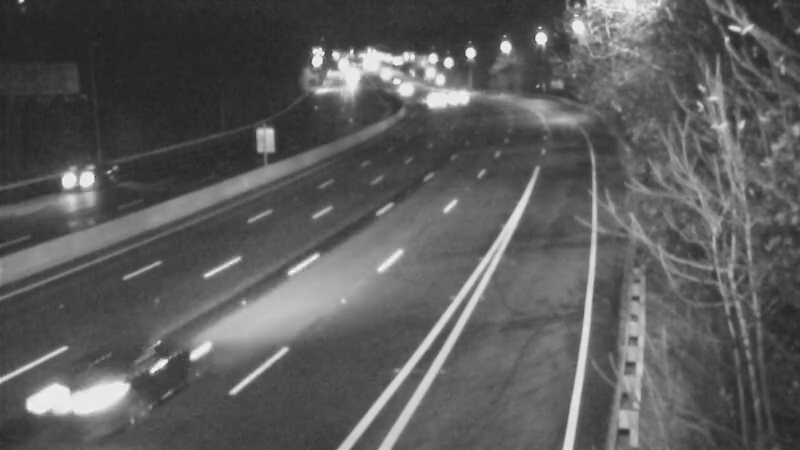vehicle: (42, 341, 152, 450), (38, 137, 118, 217), (372, 56, 422, 106), (435, 69, 485, 119), (381, 63, 431, 113), (408, 74, 458, 124)
